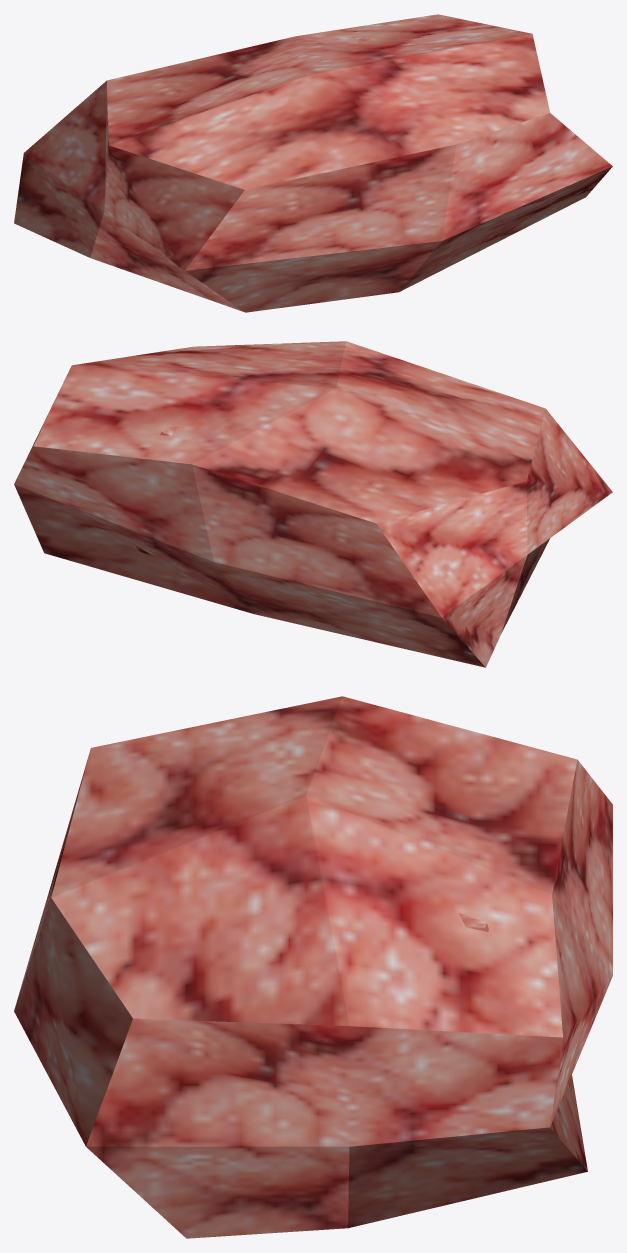
The model's file is meatpack.glb.
3 views of the same model, one above another, from view 1: azimuth 30°, elevation 25°; view 2: azimuth 150°, elevation 25°; view 3: azimuth 270°, elevation 25° (orthographic). The views are drawn at different scales.
Parts seen in each view (by area): view 1: Cube.001; view 2: Cube.001; view 3: Cube.001.
Part boxes in pixels (x1,y1,x2,y2): Cube.001: (14, 14, 612, 312); Cube.001: (14, 341, 612, 667); Cube.001: (14, 696, 612, 1238).
Size of the model in its own units: 1 by 0.3621 by 0.6923.
5 materials, 5 textured.
